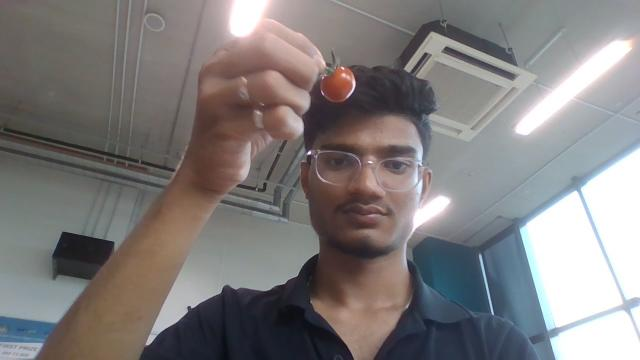Fully Grown: (319, 65, 356, 104)
